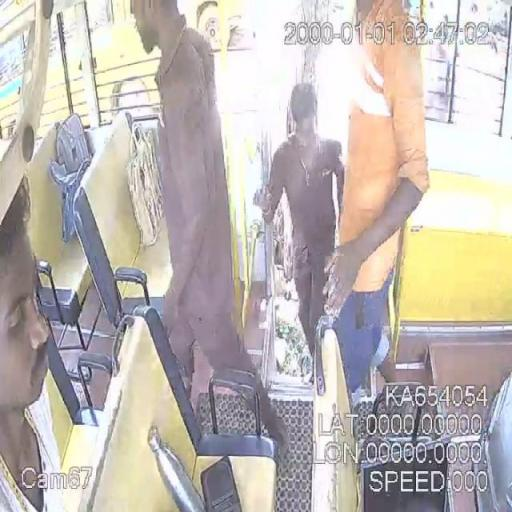persona: (130, 0, 288, 455), (323, 1, 431, 402), (252, 82, 347, 384), (0, 171, 64, 511)
